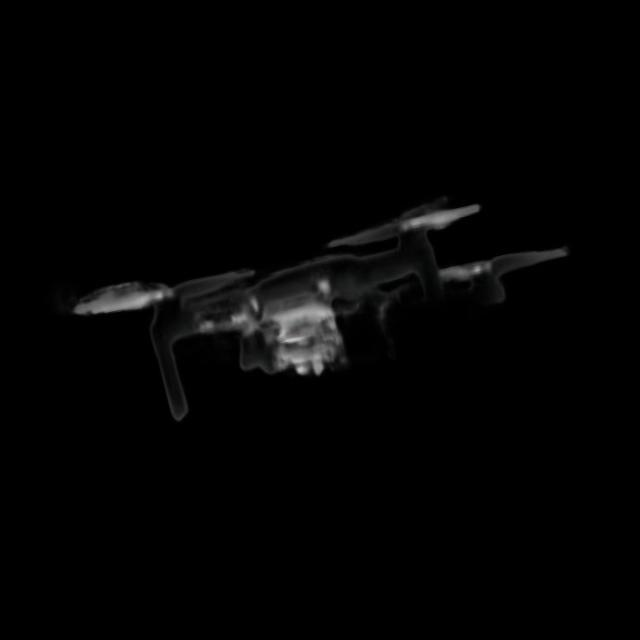drone: (37, 137, 594, 448)
